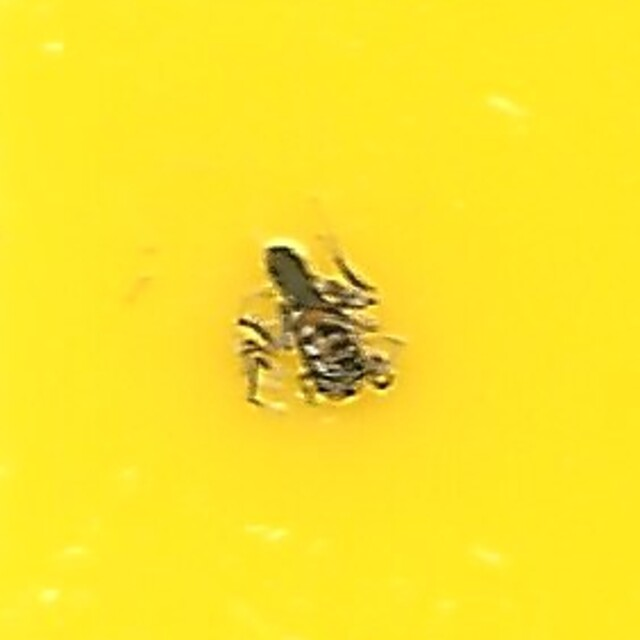Araneae: (227, 228, 413, 412)
